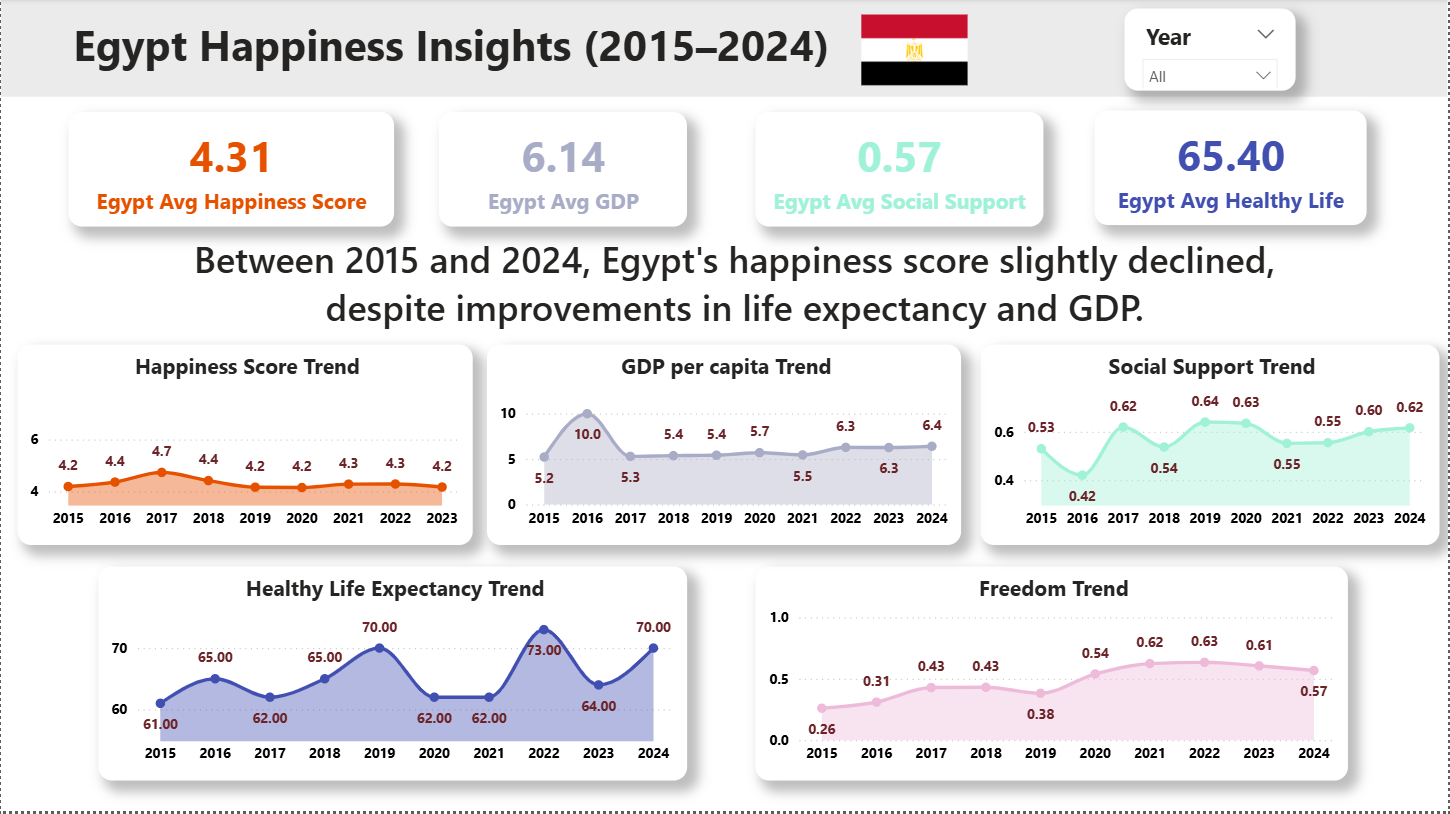

Layout of this report page (visuals, bound fields, positions):
{"tool":"powerbi","page":{"name":"🇪🇬 Egypt Overview","canvas":[1280,720],"ordinal":4},"visuals":[{"type":"shape","box":[0,1.5,1279.5,86.3],"z":0},{"type":"lineChart","title":"Happiness Score Trend","fields":{"Y":["Avg(Fact_Egypt.Happiness score)"],"Category":["Dim_Year.Year"]},"box":[15.1,305.9,402.8,177.2],"z":1000},{"type":"lineChart","title":"Freedom Trend","fields":{"Category":["Dim_Year.Year"],"Y":["Avg(Fact_Egypt.Freedom to make life choices)"]},"box":[667.8,502.7,523.9,189.3],"z":2000},{"type":"lineChart","title":"Social Support Trend","fields":{"Category":["Dim_Year.Year"],"Y":["Avg(Fact_Egypt.Social support)"]},"box":[866.1,305.9,405.8,177.2],"z":3000},{"type":"lineChart","title":"GDP per capita Trend","fields":{"Y":["Avg(Fact_Egypt.GDP per capita)"],"Category":["Dim_Year.Year"]},"box":[430,305.9,419.4,177.2],"z":4000},{"type":"lineChart","title":"Healthy Life Expectancy Trend","fields":{"Category":["Dim_Year.Year"],"Y":["Avg(Fact_Egypt.Healthy life expectancy)"]},"box":[86.3,502.7,520.9,189.3],"z":5000},{"type":"textbox","box":[0,10.6,807.1,71.2],"z":6000},{"type":"slicer","fields":{"Values":["Dim_Year.Year"]},"box":[993.3,9.1,151.4,72.7],"z":7000},{"type":"card","fields":{"Values":["Measure_Table.Egypt Avg Happiness"]},"box":[59.1,101.5,287.7,101.5],"z":8000},{"type":"card","fields":{"Values":["Measure_Table.Egypt Avg GDP"]},"box":[387.6,101.5,219.6,101.5],"z":9000},{"type":"card","fields":{"Values":["Measure_Table.Egypt Avg Social Support"]},"box":[667.8,101.5,254.4,101.5],"z":10000},{"type":"card","fields":{"Values":["Measure_Table.Egypt Avg Healthy Life"]},"box":[967.6,99.9,240.8,101.5],"z":11000},{"type":"textbox","box":[74.2,202.9,1149.3,103],"z":12000},{"type":"image","box":[749.5,9.1,116.6,72.7],"z":13000}]}

Visuals, with their boxes in screenshot pixels (x1, y1, x2, y2), scaled from the page's 1280x720 canvas onto the 1450x814 screenshot:
shape: l=0, t=2, r=1449, b=99
"Happiness Score Trend" lineChart: l=17, t=346, r=473, b=546
"Freedom Trend" lineChart: l=756, t=568, r=1350, b=782
"Social Support Trend" lineChart: l=981, t=346, r=1441, b=546
"GDP per capita Trend" lineChart: l=487, t=346, r=962, b=546
"Healthy Life Expectancy Trend" lineChart: l=98, t=568, r=688, b=782
textbox: l=0, t=12, r=914, b=92
slicer - Dim_Year.Year: l=1125, t=10, r=1297, b=92
card - Measure_Table.Egypt Avg Happiness: l=67, t=115, r=393, b=230
card - Measure_Table.Egypt Avg GDP: l=439, t=115, r=688, b=230
card - Measure_Table.Egypt Avg Social Support: l=756, t=115, r=1045, b=230
card - Measure_Table.Egypt Avg Healthy Life: l=1096, t=113, r=1369, b=228
textbox: l=84, t=229, r=1386, b=346
image: l=849, t=10, r=981, b=92
